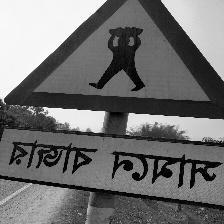Market-in-front: (4, 0, 224, 207)
